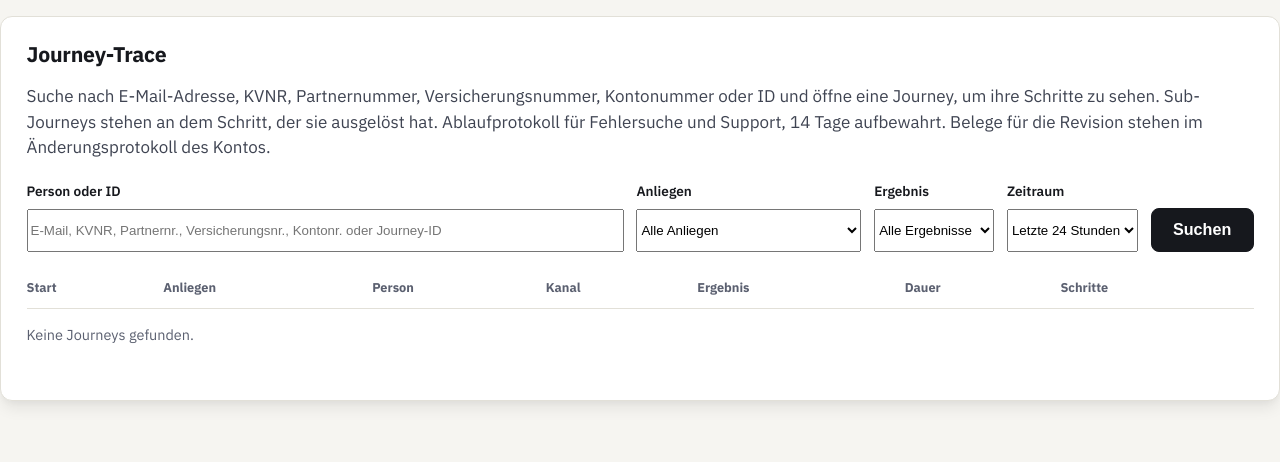
it: JourneyTraceView › finds the person behind an identifier, then searches that account’s journeys
Type "max@example.com" into the search field labelled "Person oder ID" at coordinates (325, 230), box x1=26 y1=209 x2=624 y2=252
Then press Enter
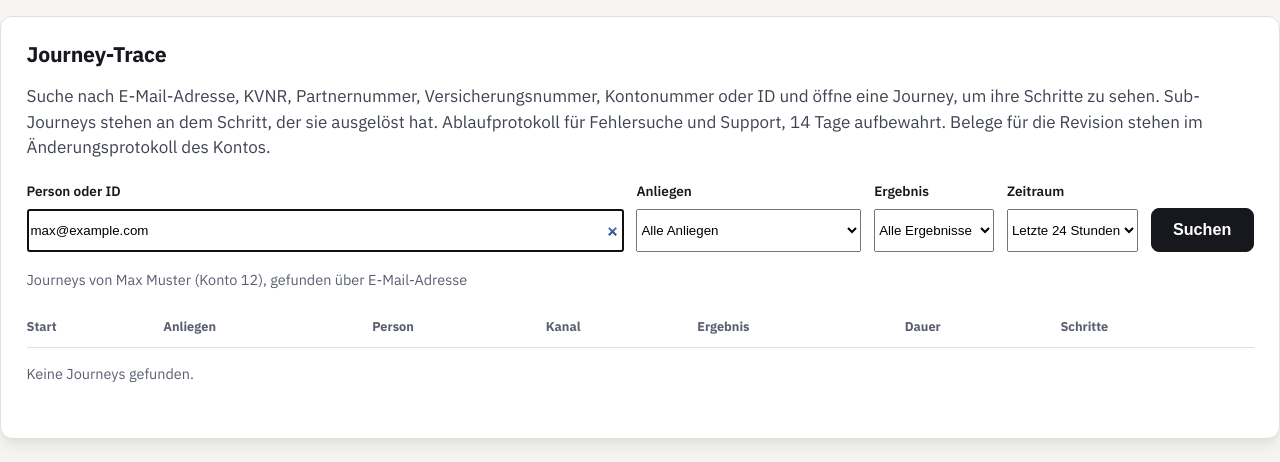
expect the text "Journeys von Max Muster (Konto 12), gefunden über E-Mail-Adresse" is shown: met, box x1=26 y1=270 x2=467 y2=288
